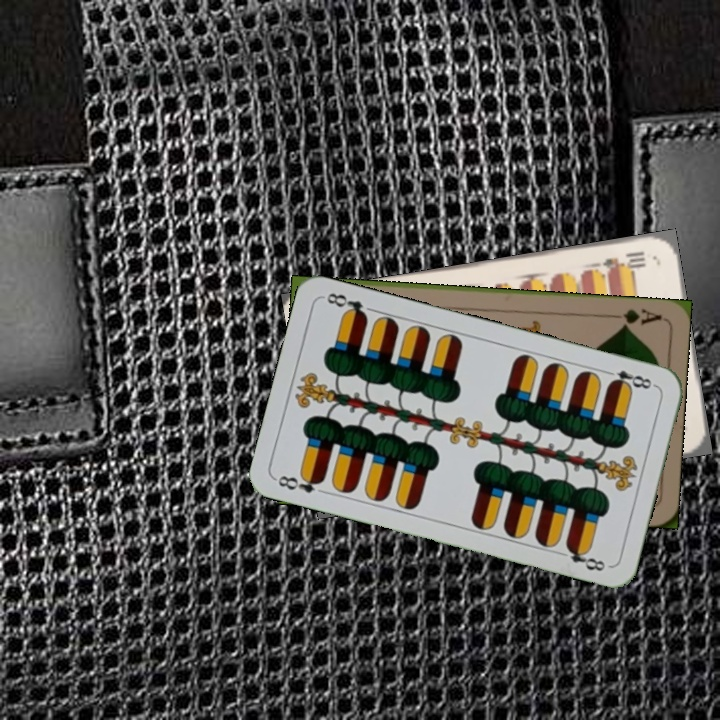E10: (599, 247, 649, 274)
E8: (601, 366, 659, 393), (272, 469, 326, 496)
GA: (605, 304, 664, 331)
